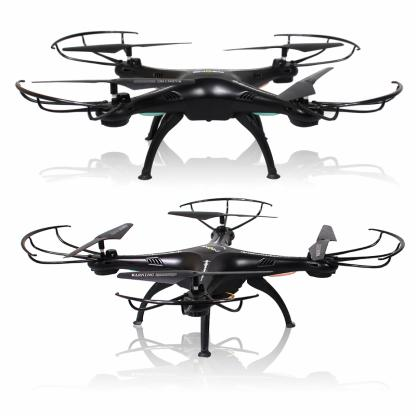drone: (16, 22, 408, 186), (11, 195, 407, 355)
